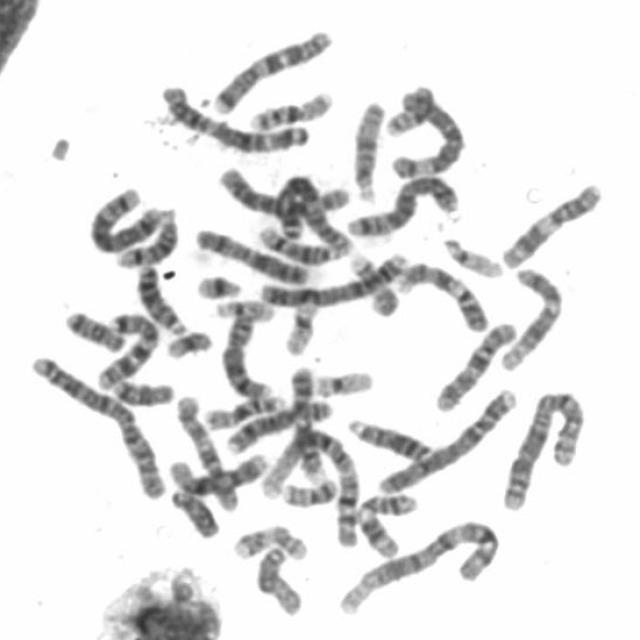A1: (332, 511, 505, 618), (254, 423, 364, 549)
A2: (23, 347, 170, 502), (497, 382, 591, 514)
A3: (154, 76, 315, 154), (266, 173, 352, 257)
B4: (372, 379, 522, 497), (254, 245, 411, 309)
B5: (342, 168, 464, 238), (84, 178, 170, 254)
C10: (430, 313, 522, 414), (171, 387, 242, 513)
C11: (496, 174, 608, 270), (352, 485, 422, 559)
C12: (494, 259, 568, 372), (165, 445, 272, 496)
C6: (213, 158, 354, 226), (385, 81, 469, 179)
C7: (206, 21, 337, 115), (91, 304, 164, 390)
C8: (220, 391, 336, 455), (216, 305, 277, 399)
C9: (392, 253, 495, 333), (284, 358, 330, 484)
D13: (342, 411, 436, 463), (131, 257, 192, 335)
D14: (110, 200, 182, 269), (252, 218, 351, 265)
D15: (347, 92, 390, 203), (252, 540, 308, 617)
E16: (243, 82, 338, 132), (199, 387, 290, 432)
E17: (342, 246, 402, 318), (227, 516, 313, 562)
E18: (59, 302, 130, 354), (107, 370, 178, 407)
F19: (280, 291, 324, 357), (308, 362, 378, 399)
F20: (383, 74, 442, 138), (276, 472, 342, 508)
G21: (160, 323, 217, 360), (191, 266, 245, 300)
G22: (438, 230, 508, 280), (210, 291, 278, 323)
X: (191, 220, 313, 285)
Y: (165, 482, 225, 540)
